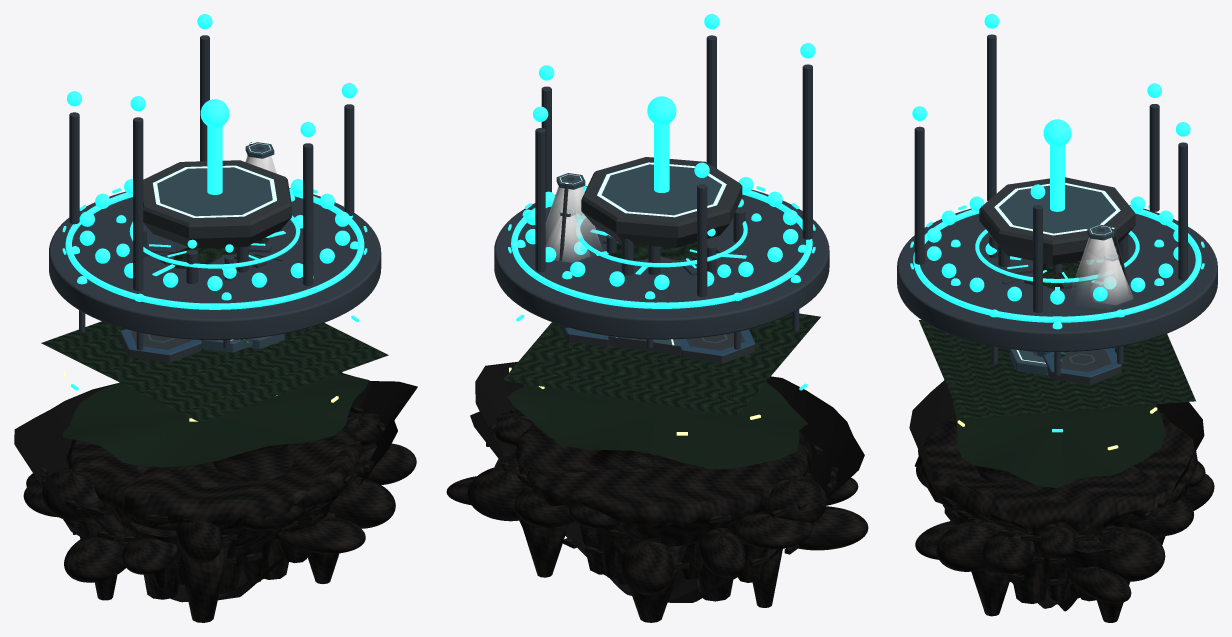
3 views of the same model, side by side, from view 1: azimuth 30°, elevation 25°; view 2: azimuth 150°, elevation 25°; view 3: azimuth 270°, elevation 25° (orthographic). The views are drawn at different scales.
Visible parts, largest first — view 1: AI_PM_requirements_round_deck, AI_PM_requirements_island_Floating_Island_01_Art, AI_PM_requirements_terrain_cap, AI_PM_requirements_terrain_surface_Terrain_Art, AI_PM_requirements_tower_Aero_Station_Mini_Platform_Art, AI_PM_requirements_organic_rock_shell, AI_PM_requirements_outer_light_ring, AI_PM_requirements_underside_shard_02, AI_PM_requirements_hex_pad_Aero_Ground_Hexagons_01_Art, AI_PM_requirements_cliff_boulder_07, AI_PM_requirements_cliff_boulder_02, AI_PM_requirements_cliff_tooth_05 (+23 smaller); view 2: AI_PM_requirements_round_deck, AI_PM_requirements_island_Floating_Island_01_Art, AI_PM_requirements_terrain_cap, AI_PM_requirements_terrain_surface_Terrain_Art, AI_PM_requirements_tower_Aero_Station_Mini_Platform_Art, AI_PM_requirements_organic_rock_shell, AI_PM_requirements_hex_pad_Aero_Ground_Hexagons_01_Art, AI_PM_requirements_outer_light_ring, AI_PM_requirements_cliff_boulder_11, AI_PM_requirements_cliff_boulder_14, AI_PM_requirements_cliff_boulder_08, AI_PM_requirements_cliff_boulder_09 (+23 smaller); view 3: AI_PM_requirements_round_deck, AI_PM_requirements_island_Floating_Island_01_Art, AI_PM_requirements_terrain_surface_Terrain_Art, AI_PM_requirements_terrain_cap, AI_PM_requirements_tower_Aero_Station_Mini_Platform_Art, AI_PM_requirements_organic_rock_shell, AI_PM_requirements_hex_pad_Aero_Ground_Hexagons_01_Art, AI_PM_requirements_cliff_boulder_14, AI_PM_requirements_outer_light_ring, AI_PM_requirements_cliff_boulder_02, AI_PM_requirements_signal_lamp_Ray_light_01, AI_PM_requirements_cliff_boulder_01 (+20 smaller).
Boxes of the visible parts, box(x1,y1,x2,y2) form: AI_PM_requirements_round_deck: box(49, 188, 381, 340); AI_PM_requirements_island_Floating_Island_01_Art: box(66, 425, 363, 549); AI_PM_requirements_terrain_cap: box(63, 373, 369, 466); AI_PM_requirements_terrain_surface_Terrain_Art: box(41, 321, 388, 422); AI_PM_requirements_tower_Aero_Station_Mini_Platform_Art: box(143, 160, 291, 248); AI_PM_requirements_organic_rock_shell: box(14, 372, 417, 602); AI_PM_requirements_outer_light_ring: box(65, 188, 364, 309); AI_PM_requirements_underside_shard_02: box(212, 445, 294, 582); AI_PM_requirements_hex_pad_Aero_Ground_Hexagons_01_Art: box(120, 329, 284, 362); AI_PM_requirements_cliff_boulder_07: box(64, 530, 128, 582); AI_PM_requirements_cliff_boulder_02: box(328, 477, 395, 528); AI_PM_requirements_cliff_tooth_05: box(180, 540, 230, 622); AI_PM_requirements_round_deck: box(494, 186, 829, 339); AI_PM_requirements_island_Floating_Island_01_Art: box(516, 423, 812, 554); AI_PM_requirements_terrain_cap: box(508, 382, 807, 468); AI_PM_requirements_terrain_surface_Terrain_Art: box(502, 313, 820, 415); AI_PM_requirements_tower_Aero_Station_Mini_Platform_Art: box(581, 157, 742, 247); AI_PM_requirements_organic_rock_shell: box(470, 362, 864, 602); AI_PM_requirements_hex_pad_Aero_Ground_Hexagons_01_Art: box(559, 325, 755, 363); AI_PM_requirements_outer_light_ring: box(511, 186, 812, 308); AI_PM_requirements_cliff_boulder_11: box(621, 539, 674, 594); AI_PM_requirements_cliff_boulder_14: box(467, 465, 527, 521); AI_PM_requirements_cliff_boulder_08: box(763, 475, 826, 523); AI_PM_requirements_cliff_boulder_09: box(735, 511, 812, 549); AI_PM_requirements_round_deck: box(897, 205, 1217, 351); AI_PM_requirements_island_Floating_Island_01_Art: box(914, 413, 1197, 556); AI_PM_requirements_terrain_surface_Terrain_Art: box(919, 320, 1195, 419); AI_PM_requirements_terrain_cap: box(953, 401, 1165, 487); AI_PM_requirements_tower_Aero_Station_Mini_Platform_Art: box(979, 177, 1135, 264); AI_PM_requirements_organic_rock_shell: box(909, 380, 1204, 611); AI_PM_requirements_hex_pad_Aero_Ground_Hexagons_01_Art: box(1010, 347, 1121, 384); AI_PM_requirements_cliff_boulder_14: box(1096, 526, 1165, 581); AI_PM_requirements_outer_light_ring: box(913, 205, 1201, 322); AI_PM_requirements_cliff_boulder_02: box(936, 519, 1006, 571); AI_PM_requirements_signal_lamp_Ray_light_01: box(1072, 237, 1128, 299); AI_PM_requirements_cliff_boulder_01: box(982, 529, 1034, 575).
Size of the model in its own units: 1.01 by 1.44 by 0.78.
Materials: 17 (6 with a texture image).
